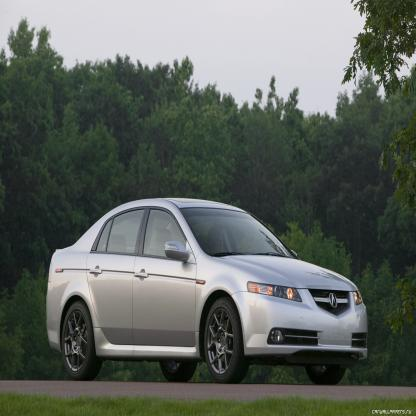Vehicle: (46, 196, 370, 382)
